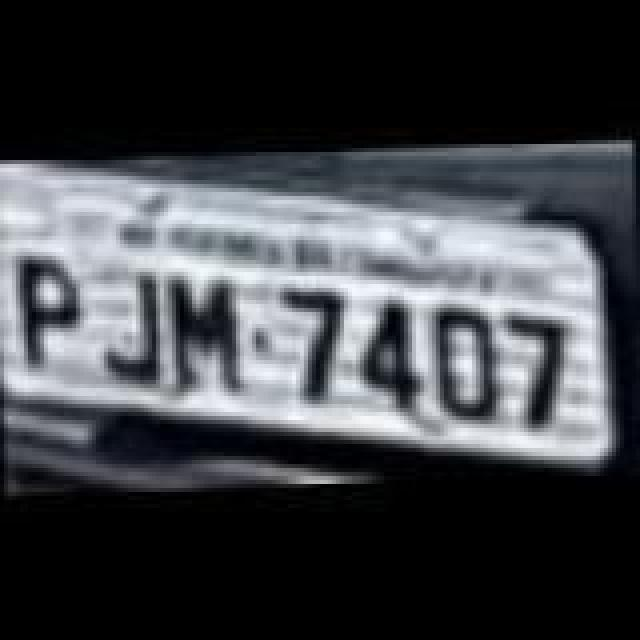4: (342, 296, 426, 412)
7: (282, 284, 358, 404), (502, 312, 578, 432)
J: (96, 268, 168, 388)
M: (166, 266, 250, 394)
O: (426, 304, 502, 428)
P: (18, 252, 94, 372)
